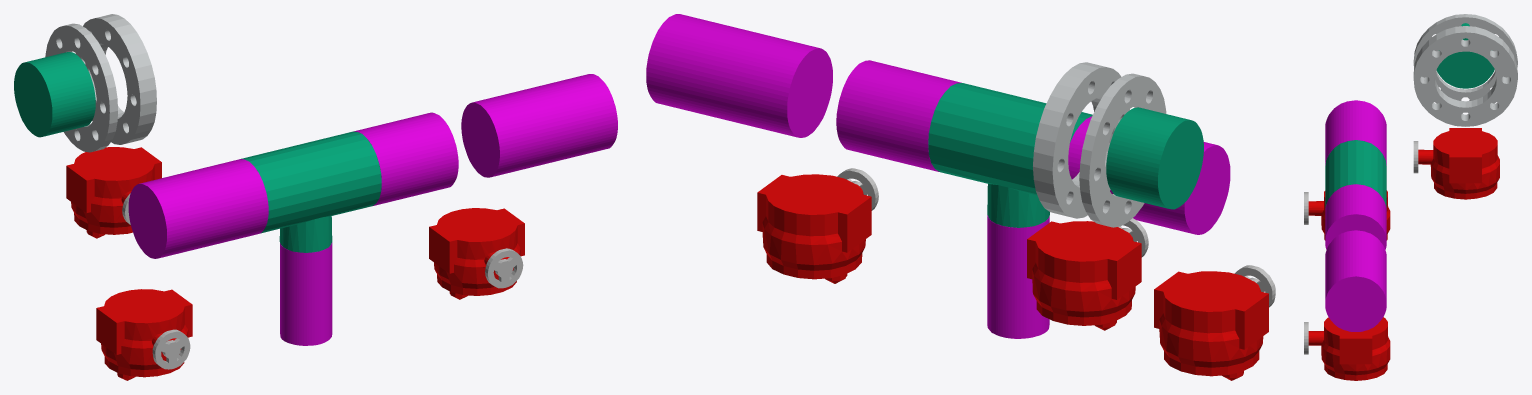
3 views of the same model, side by side, from view 1: azimuth 30°, elevation 25°; view 2: azimuth 150°, elevation 25°; view 3: azimuth 270°, elevation 25° (orthographic). The views are drawn at different scales.
Bounding box in the file's own units: 1.26 × 0.7166 × 0.5851.
